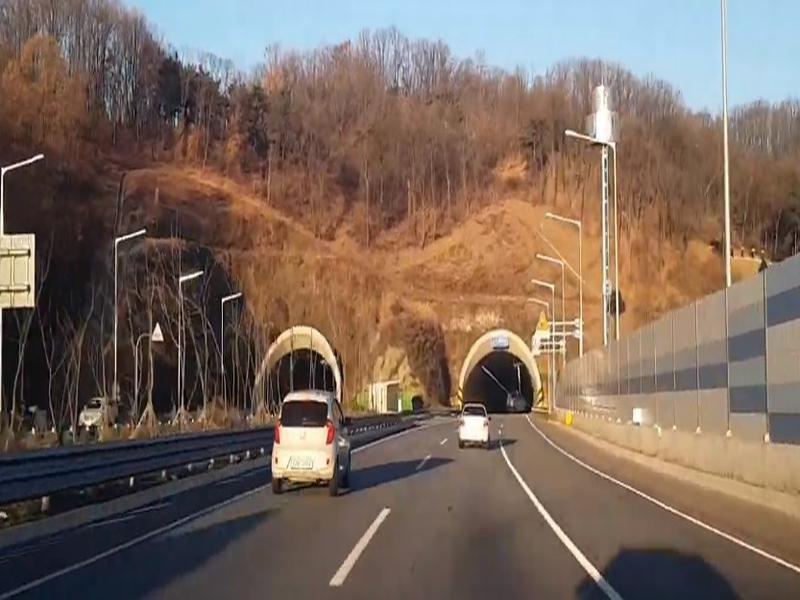car: (271, 386, 352, 492)
